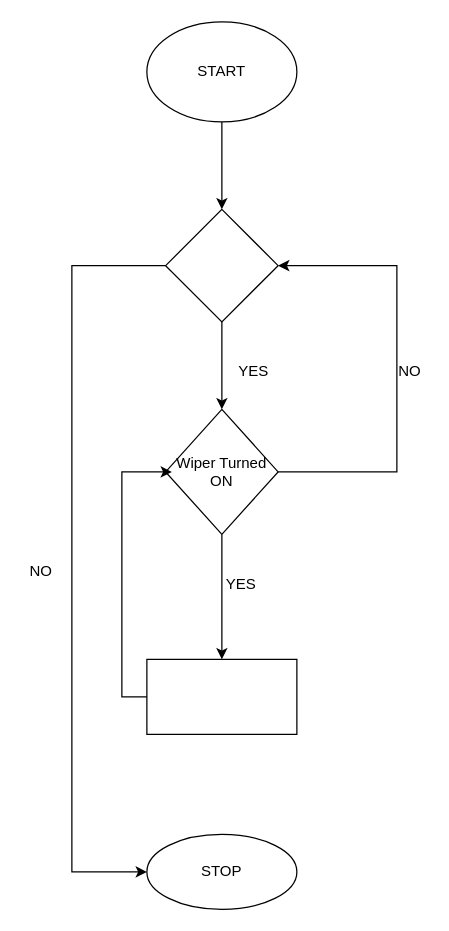
Image size: 449x931. Some labels were removed from this diagram. The shapes that lost their labels are listed below. From the top down, each one's centre as x and y in pixels, then its label:
At [221,265]: "Engine Turned ON".
At [221,696]: "Run the Wiper".
